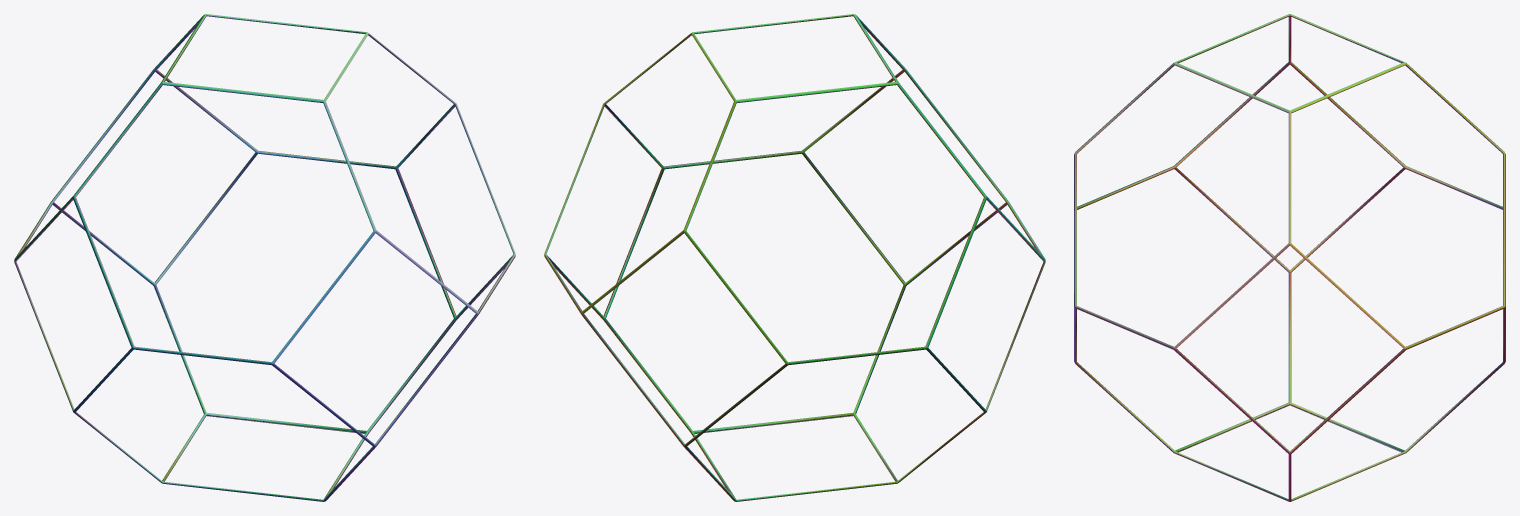
The model's file is zeometry-wireframes-wire-truncated-octahedron_v2.glb.
The picture shows the model from 3 angles, left to right: view 1: azimuth 30°, elevation 25°; view 2: azimuth 150°, elevation 25°; view 3: azimuth 270°, elevation 25°; orthographic projection. The views are drawn at different scales.
Visible parts, largest first — view 1: Wire Truncated Octahedron_v2; view 2: Wire Truncated Octahedron_v2; view 3: Wire Truncated Octahedron_v2.
Part boxes in pixels (<box>): Wire Truncated Octahedron_v2: <box>14,14,515,501</box>; Wire Truncated Octahedron_v2: <box>544,14,1045,501</box>; Wire Truncated Octahedron_v2: <box>1074,14,1505,501</box>.
Size of the model in its own units: 0.5 by 0.5 by 0.5.
